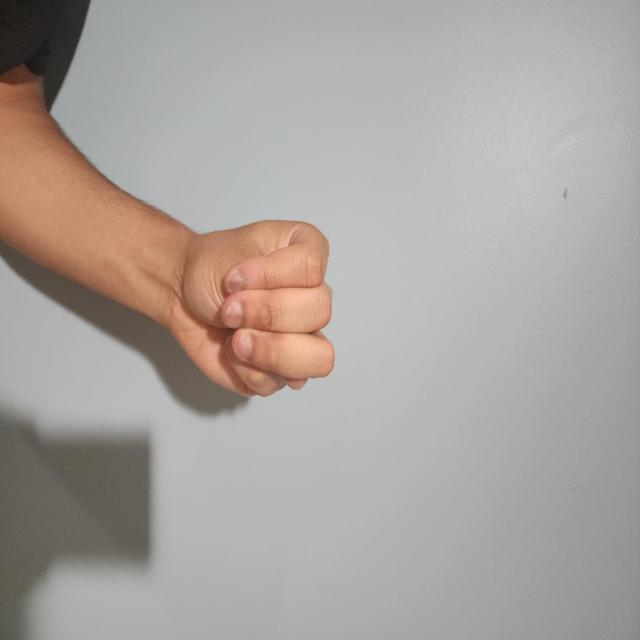M: (321, 404, 462, 624)
